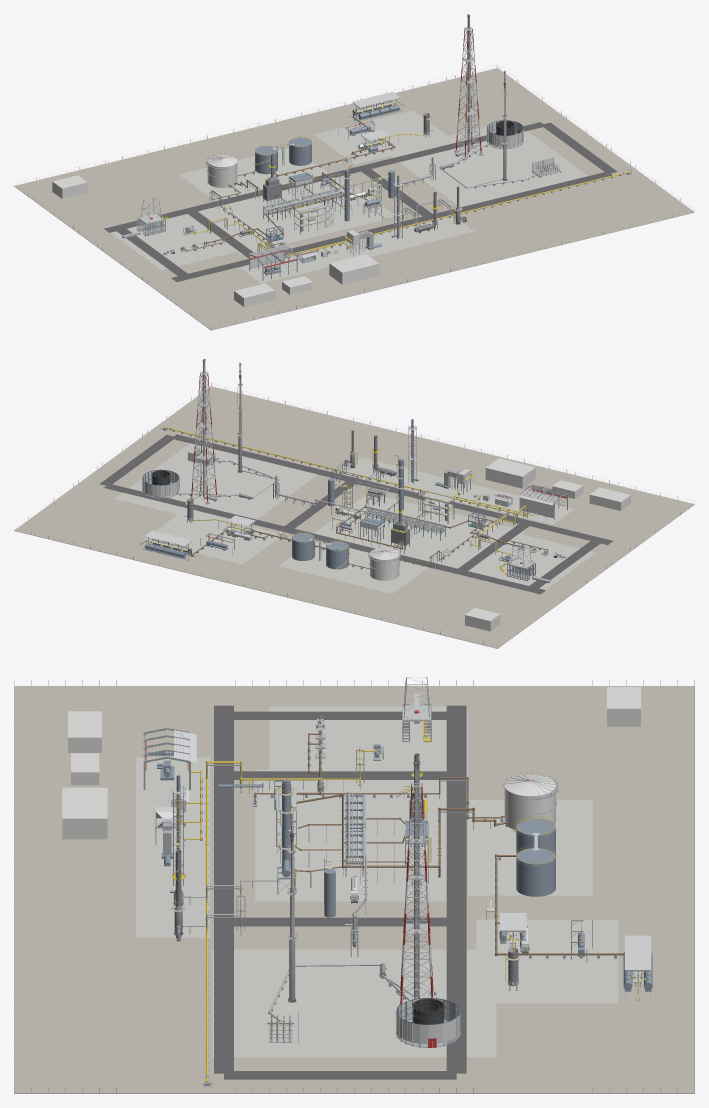
The model's file is plant-onshore.glb.
The picture shows the model from 3 angles, top to bottom: view 1: azimuth 30°, elevation 25°; view 2: azimuth 150°, elevation 25°; view 3: azimuth 270°, elevation 25°; orthographic projection. The views are drawn at different scales.
Parts seen in each view (by area): view 1: ENV_Ground, ENV_Pad.002, ENV_Pad.001, ENV_Pad.005, ENV_Pad.004, ENV_Pad, ENV_Pad.003, ENV_Road.001, ENV_Road, SiteSupports, Tanks(context), ENV_Workshop (+13 smaller); view 2: ENV_Ground, ENV_Pad.002, ENV_Pad.001, ENV_Pad.005, ENV_Pad.004, ENV_Pad, ENV_Pad.003, ENV_Road.001, ENV_Road, SiteSupports, Tanks(context), ENV_Workshop (+13 smaller); view 3: ENV_Ground, ENV_Pad.002, ENV_Pad.001, ENV_Pad.004, ENV_Pad.005, ENV_Pad, ENV_Pad.003, ENV_Road.001, ENV_Road, Tanks(context), ENV_Workshop, SiteSupports (+21 smaller).
Part boxes in pixels (x1,y1,x2,y2): ENV_Ground: [14, 68, 694, 330]; ENV_Pad.002: [391, 120, 587, 207]; ENV_Pad.001: [186, 176, 396, 254]; ENV_Pad.005: [240, 216, 474, 283]; ENV_Pad.004: [314, 110, 453, 164]; ENV_Pad: [104, 207, 236, 270]; ENV_Pad.003: [179, 148, 328, 200]; ENV_Road.001: [171, 172, 612, 281]; ENV_Road: [104, 122, 542, 232]; SiteSupports: [194, 118, 621, 258]; Tanks(context): [255, 137, 311, 174]; ENV_Workshop: [329, 254, 379, 284]; ENV_Ground: [14, 386, 694, 648]; ENV_Pad.002: [114, 439, 323, 520]; ENV_Pad.001: [314, 493, 524, 571]; ENV_Pad.005: [341, 457, 573, 524]; ENV_Pad.004: [143, 510, 282, 564]; ENV_Pad: [454, 534, 596, 594]; ENV_Pad.003: [278, 541, 427, 593]; ENV_Road.001: [174, 434, 612, 544]; ENV_Road: [104, 484, 545, 594]; SiteSupports: [172, 430, 540, 569]; Tanks(context): [292, 533, 348, 569]; ENV_Workshop: [485, 458, 535, 488]; ENV_Ground: [14, 686, 694, 1093]; ENV_Pad.002: [212, 949, 496, 1057]; ENV_Pad.001: [255, 769, 446, 901]; ENV_Pad.004: [476, 919, 618, 1003]; ENV_Pad.005: [136, 757, 209, 937]; ENV_Pad: [269, 706, 467, 776]; ENV_Pad.003: [468, 799, 592, 895]; ENV_Road.001: [214, 705, 233, 1073]; ENV_Road: [446, 705, 466, 1073]; Tanks(context): [516, 819, 555, 896]; ENV_Workshop: [62, 787, 107, 839]; SiteSupports: [183, 741, 616, 1070].
Size of what is drawn, in the model's own units: 340 by 96.11 by 240.
